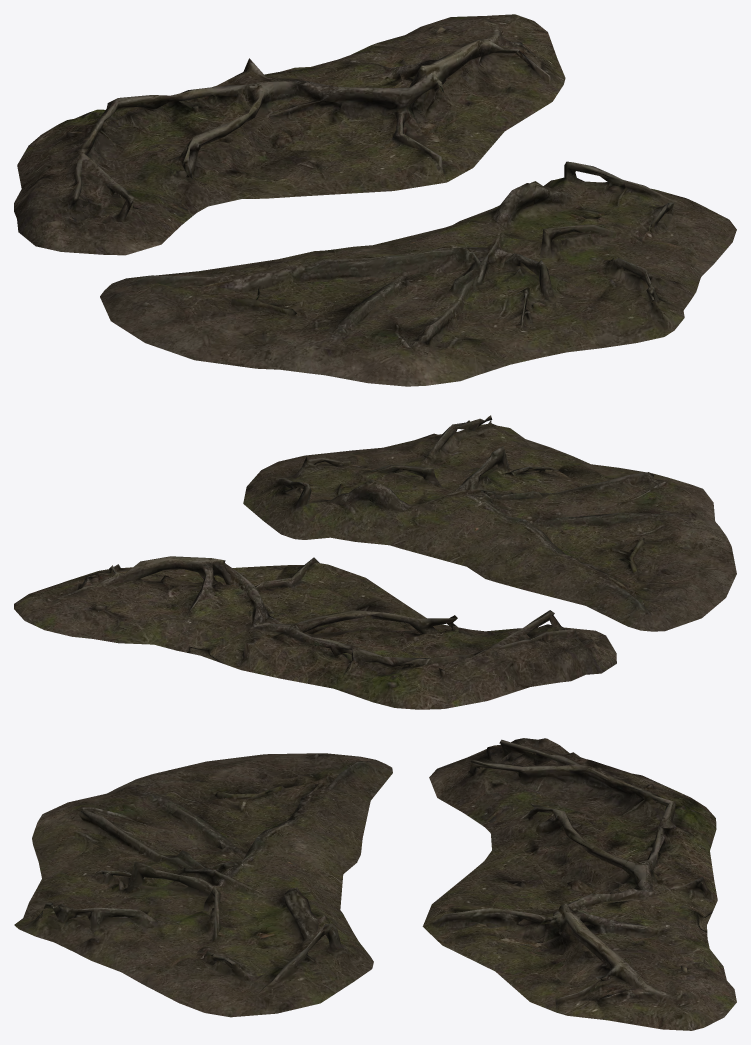
The model's file is pine_roots.glb.
3 views of the same model, one above another, from view 1: azimuth 30°, elevation 25°; view 2: azimuth 150°, elevation 25°; view 3: azimuth 270°, elevation 25° (orthographic). The views are drawn at different scales.
Parts seen in each view (by area): view 1: pine_roots_b, pine_roots_a; view 2: pine_roots_b, pine_roots_a; view 3: pine_roots_b, pine_roots_a.
Boxes of the visible parts, x1,y1,x2,y2 form: pine_roots_b: (100,161,736,386); pine_roots_a: (14,14,565,255); pine_roots_b: (243,415,736,631); pine_roots_a: (14,556,616,709); pine_roots_b: (14,753,392,1017); pine_roots_a: (422,738,736,1030).
Size of the model in its own units: 1.76 by 0.1538 by 1.89.
Materials: 2 (2 with a texture image).
